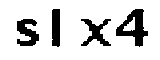4: (115, 6, 151, 48)
l: (45, 6, 66, 51)
s: (10, 18, 39, 50)
x: (79, 16, 112, 49)
